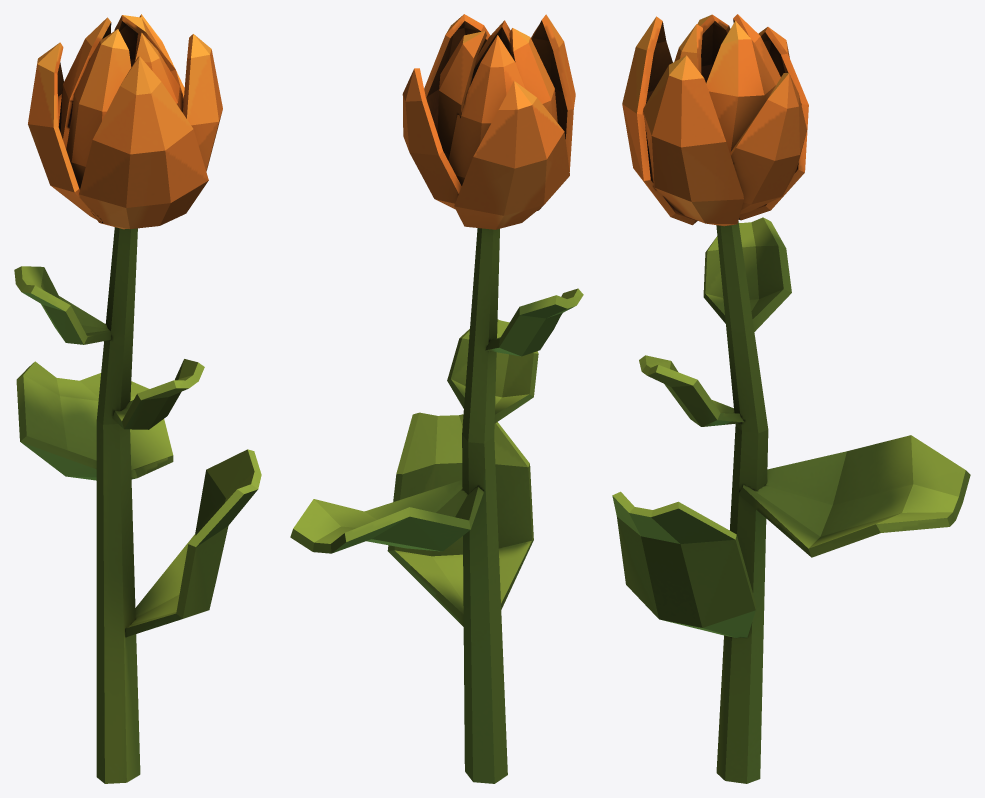
The model's file is PUSHILIN_tulip.obj.
The picture shows the model from 3 angles, left to right: view 1: azimuth 30°, elevation 25°; view 2: azimuth 150°, elevation 25°; view 3: azimuth 270°, elevation 25°; orthographic projection. The views are drawn at different scales.
Visible parts, largest first — view 1: tulip; view 2: tulip; view 3: tulip.
Boxes of the visible parts, x1,y1,x2,y2 form: tulip: (14,14,261,783); tulip: (290,14,583,783); tulip: (612,14,970,783).
Bounding box in the file's own units: 0.6397 × 2.28 × 0.9742.
1 material, 1 textured.
